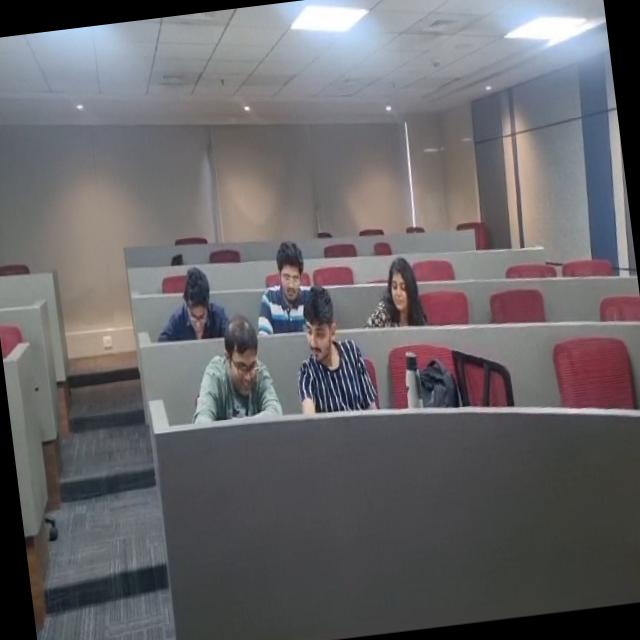cheating: (193, 319, 288, 433), (288, 280, 362, 410)
non-cheating: (147, 256, 233, 344), (246, 228, 318, 325), (355, 250, 429, 336)
